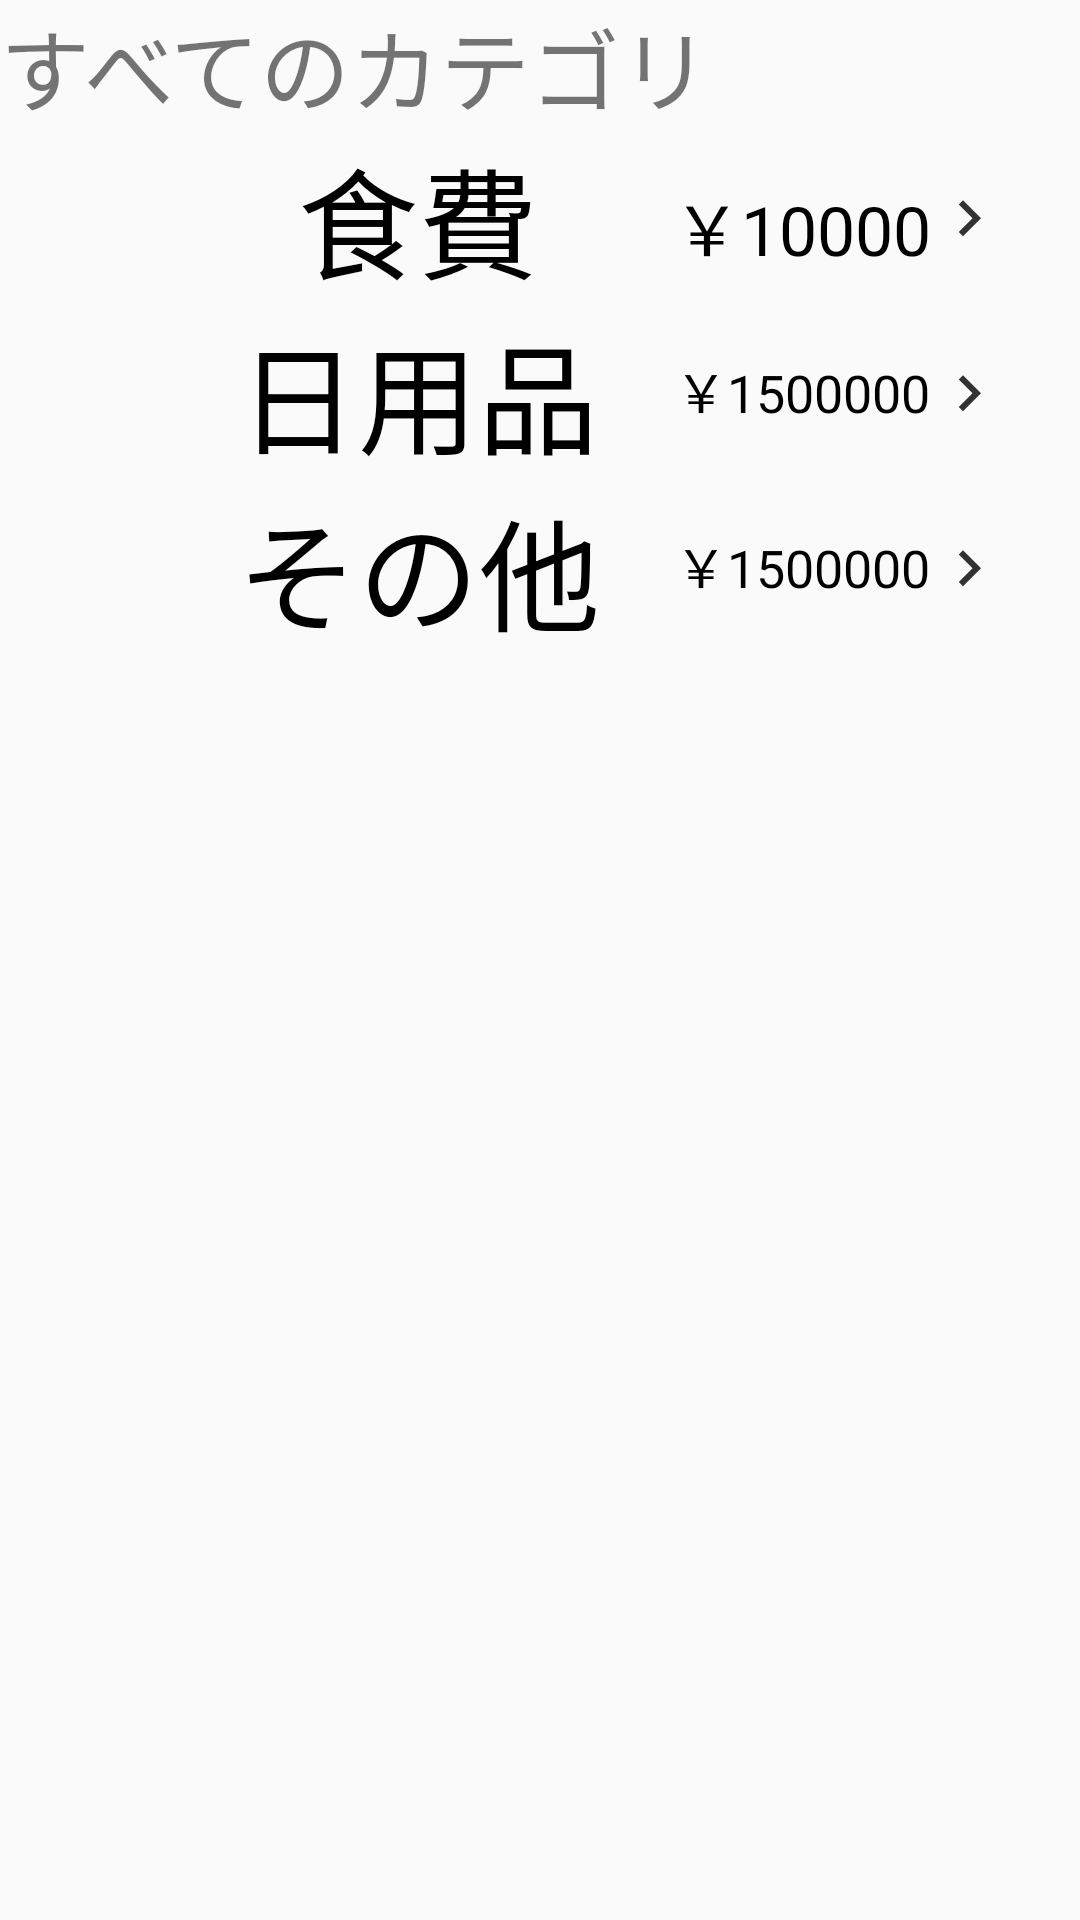

Named icons in this screenshot (1080x1920) and their centers, [x,y]:
next: [970,218], [970,393], [970,568]
